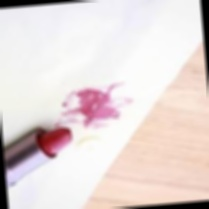lipstick: (51, 77, 136, 131)
